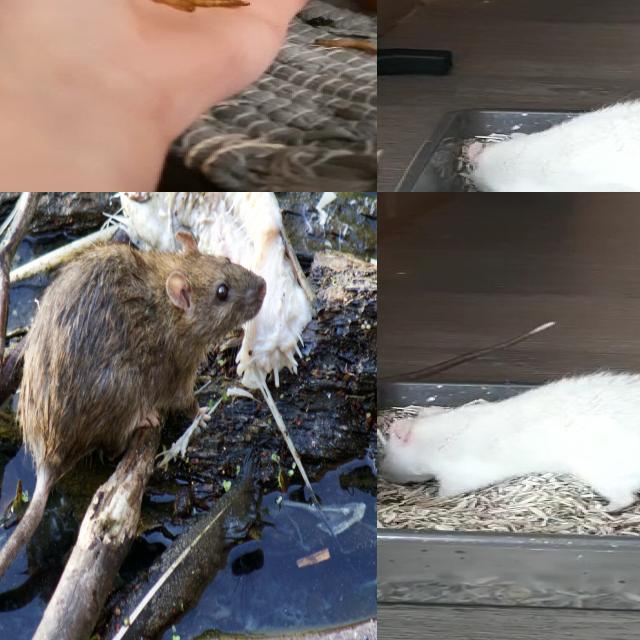rat: (18, 256, 266, 464), (377, 372, 640, 513), (458, 97, 640, 192)
